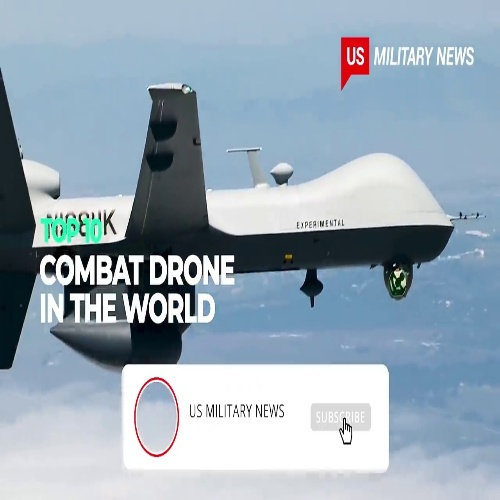uav: (4, 70, 453, 361)
